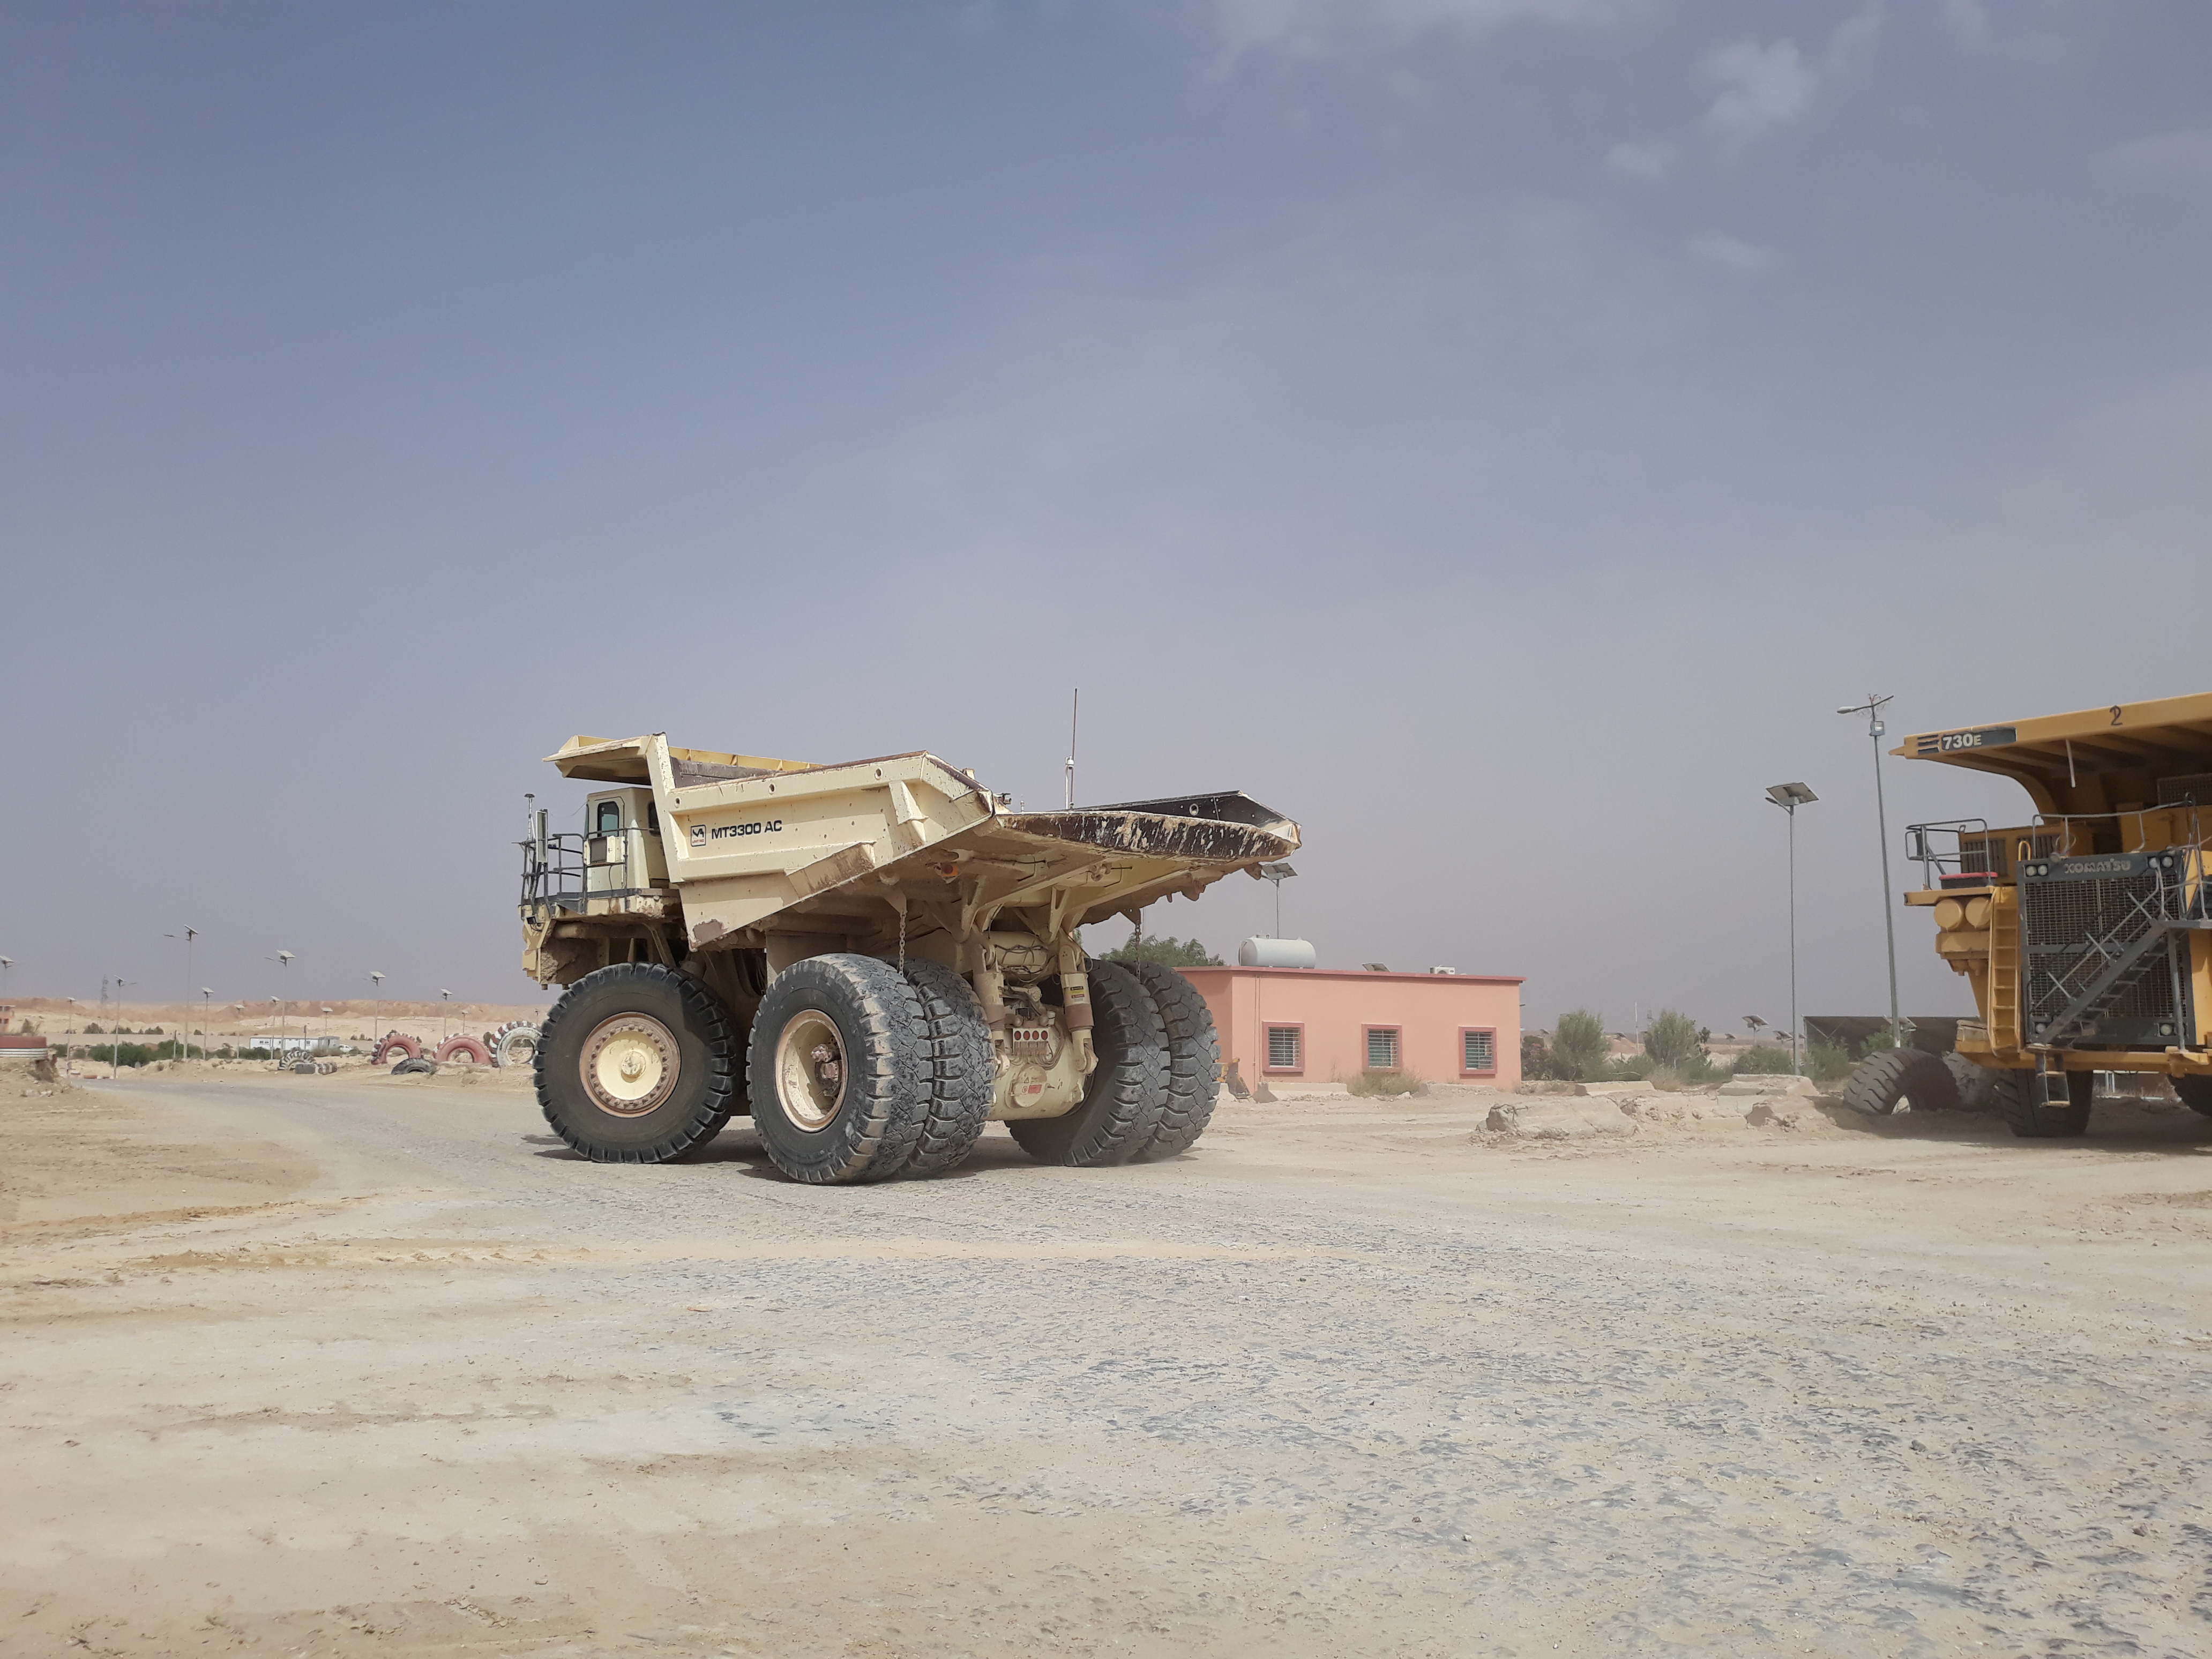camion: (496, 709, 1371, 1229), (1874, 695, 2212, 1171)
